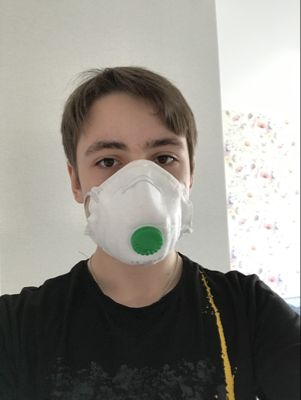with-mask: (53, 65, 212, 269)
